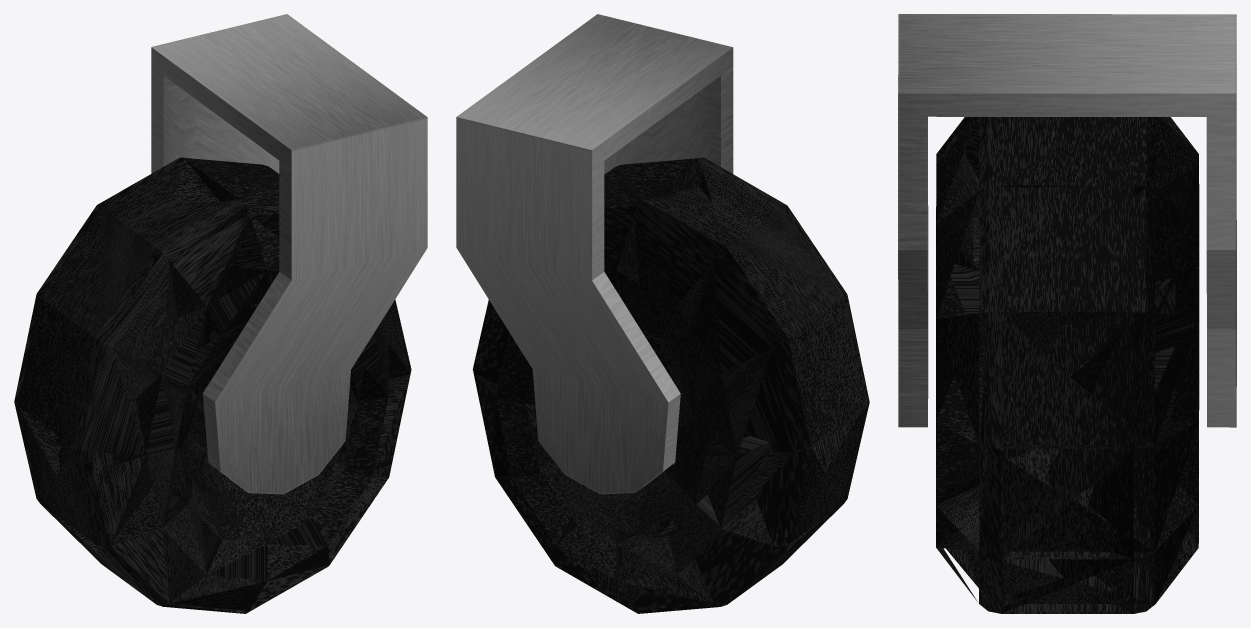
File: llanta1.obj
The picture shows the model from 3 angles, left to right: view 1: azimuth 30°, elevation 25°; view 2: azimuth 150°, elevation 25°; view 3: azimuth 270°, elevation 25°; orthographic projection. The views are drawn at different scales.
Parts seen in each view (by area): view 1: Cylinder06, Box007; view 2: Cylinder06, Box007; view 3: Cylinder06, Box007.
Part boxes in pixels (box(x1,y1,x2,y2)): Cylinder06: box(14, 157, 411, 613); Box007: box(151, 14, 427, 494); Cylinder06: box(472, 157, 869, 613); Box007: box(456, 14, 733, 494); Cylinder06: box(936, 117, 1199, 613); Box007: box(898, 14, 1236, 427).
Bounding box in the file's own units: 3.06 × 4.29 × 2.24.
Materials: 2 (2 with a texture image).
